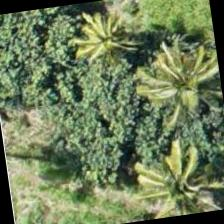Kelapa_Sawit: (128, 35, 223, 137), (55, 0, 157, 92), (128, 137, 223, 222)
